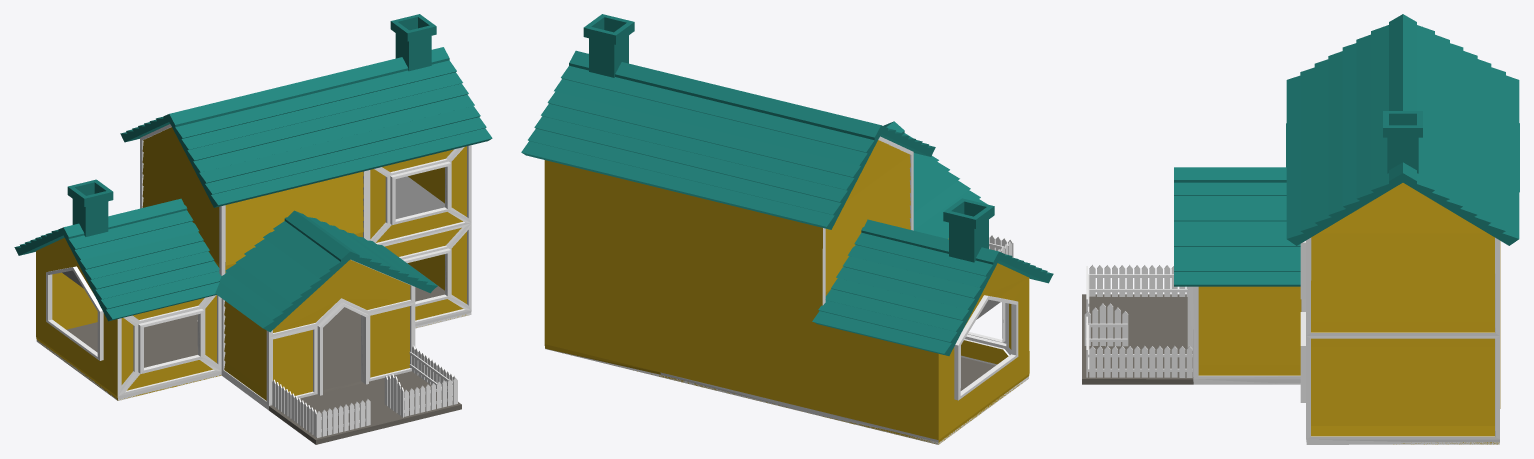
Rendered from 029 House_3.FBX.
3 views of the same model, side by side, from view 1: azimuth 30°, elevation 25°; view 2: azimuth 150°, elevation 25°; view 3: azimuth 270°, elevation 25° (orthographic). The views are drawn at different scales.
Visible parts, largest first — view 1: Box025, House_1, Box035, Box051, Box053, Box052, Box041; view 2: Box025, House_1; view 3: Box025, House_1, Box052, Box053, Box041.
Boxes of the visible parts, x1=… form: Box025: x1=36, y1=124, x2=471, y2=444; House_1: x1=14, y1=14, x2=492, y2=332; Box035: x1=316, y1=399, x2=370, y2=437; Box051: x1=404, y1=377, x2=457, y2=416; Box053: x1=272, y1=379, x2=316, y2=436; Box052: x1=409, y1=345, x2=455, y2=396; Box041: x1=384, y1=374, x2=404, y2=417; Box025: x1=544, y1=136, x2=1029, y2=444; House_1: x1=521, y1=14, x2=1053, y2=355; Box025: x1=1082, y1=183, x2=1500, y2=444; House_1: x1=1174, y1=14, x2=1519, y2=286; Box052: x1=1088, y1=346, x2=1192, y2=377; Box053: x1=1088, y1=265, x2=1187, y2=296; Box041: x1=1084, y1=303, x2=1128, y2=346.
Size of the model in its own units: 959 by 641 by 805.
